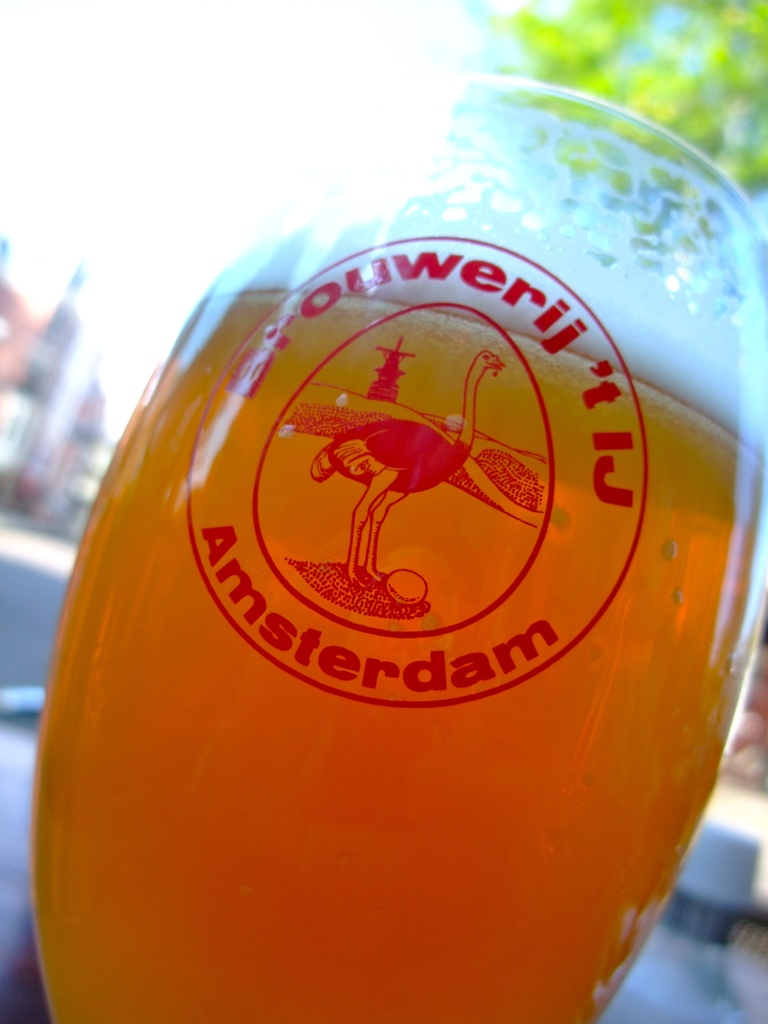Beer: (39, 218, 767, 1022)
